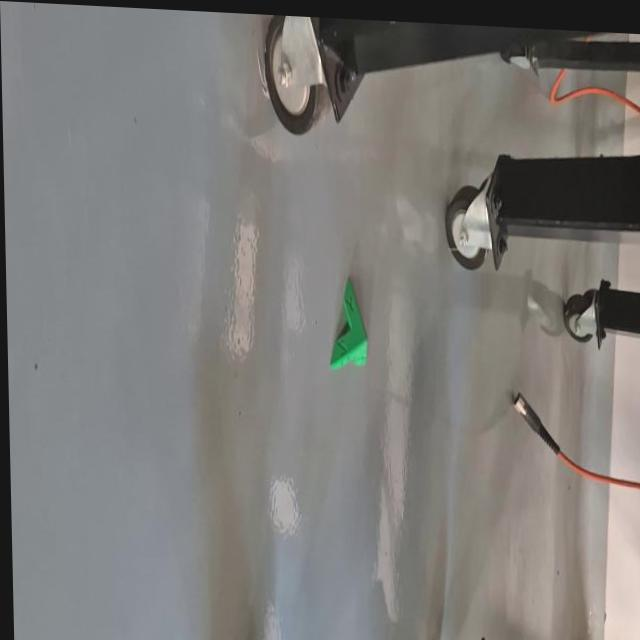eje: (327, 274, 369, 374)
